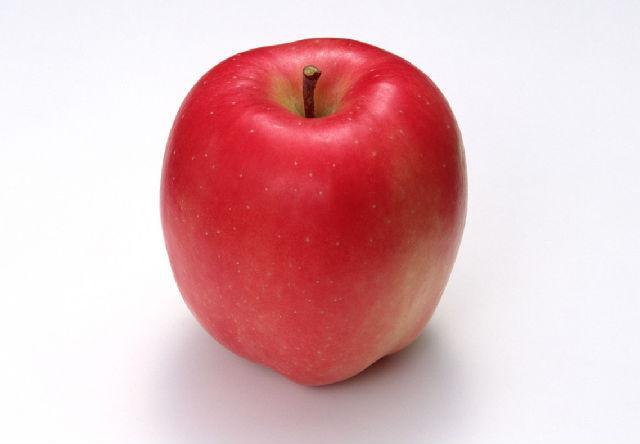apple: (153, 39, 472, 385)
